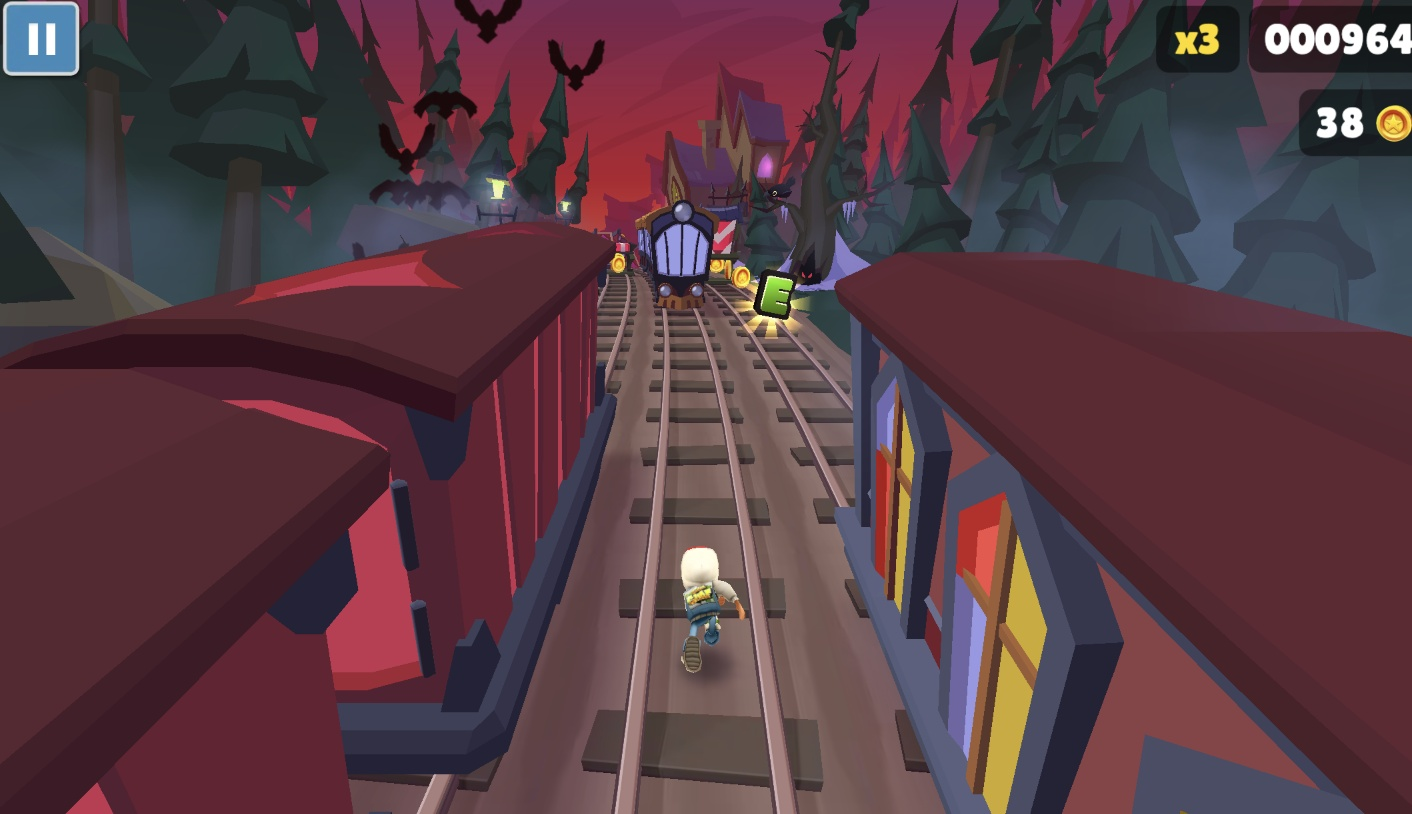ground_barrier: (610, 239, 638, 271)
overhead_barrier: (709, 211, 743, 288)
train: (0, 229, 606, 814), (878, 292, 1412, 814), (635, 199, 720, 315)
